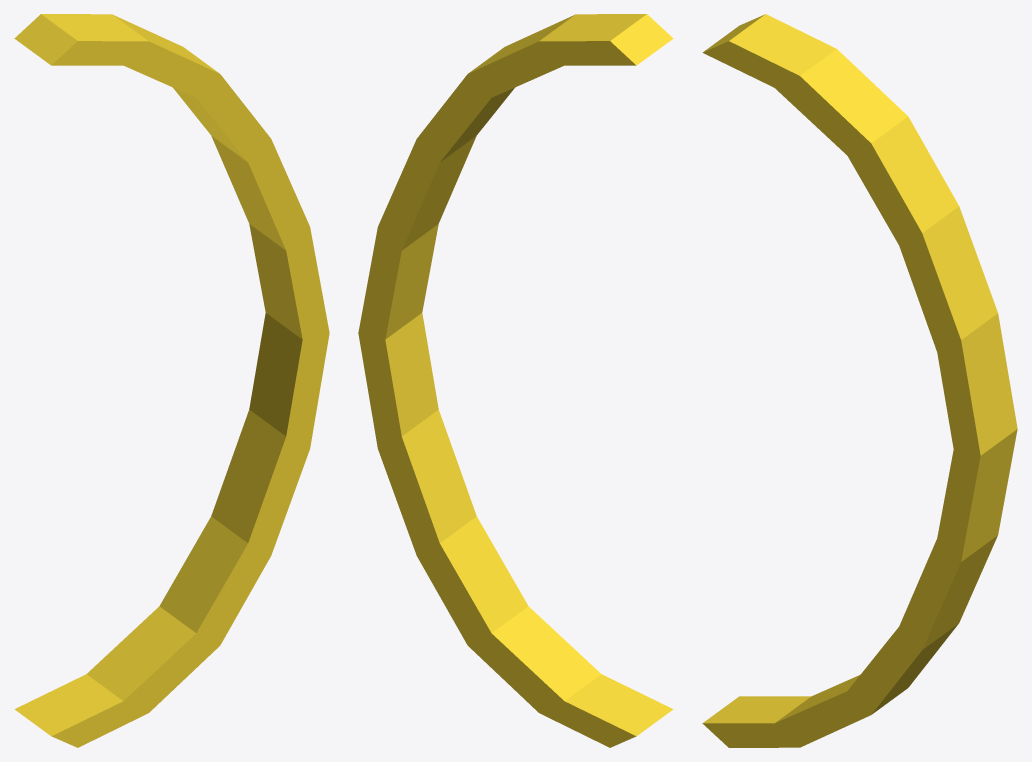
Rendered from YellowArc.fbx.
3 renders of one model, left to right at view 1: azimuth 30°, elevation 25°; view 2: azimuth 150°, elevation 25°; view 3: azimuth 330°, elevation 25°, orthographic.
Visible parts, largest first — view 1: Plane.002; view 2: Plane.002; view 3: Plane.002.
Part boxes in pixels (x1=…): Plane.002: x1=14, y1=14, x2=329, y2=747; Plane.002: x1=358, y1=14, x2=673, y2=747; Plane.002: x1=702, y1=14, x2=1017, y2=747.
Size of the model in its own units: 43.42 by 105 by 10.
